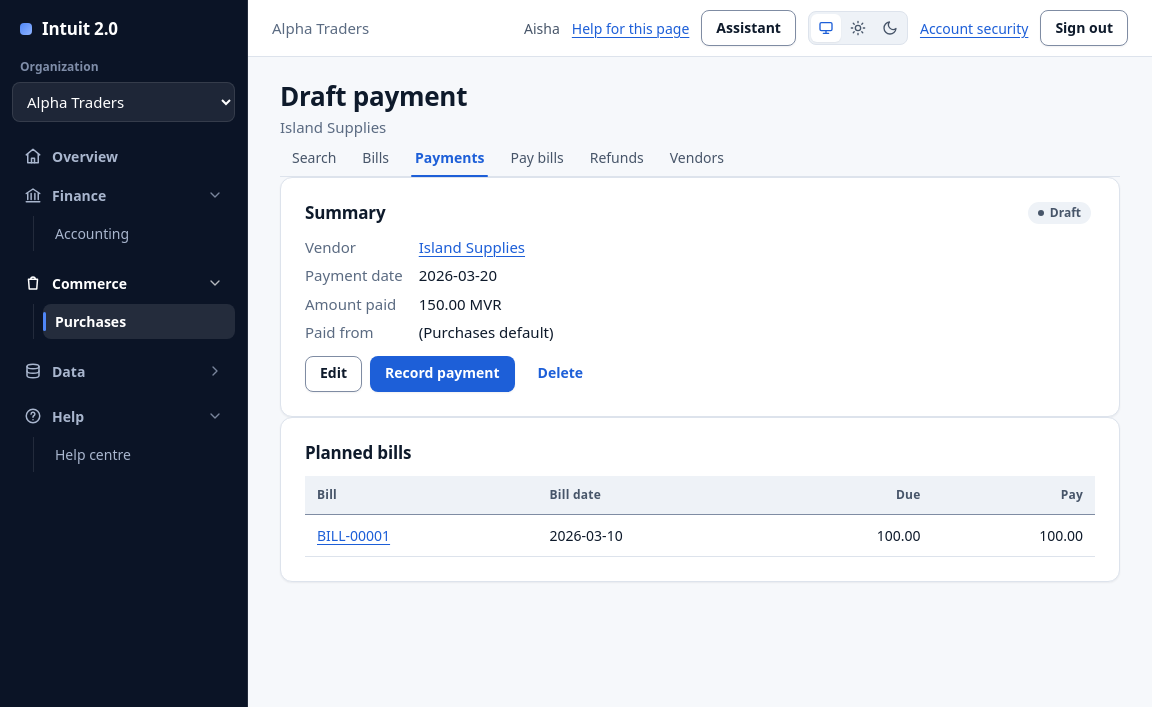
Test: vendor payment detail › records without re-authentication and shows the settlement with journal links
This screenshot has width=1152, height=707.
Click the button "Record payment".
click(442, 374)  # box [370,356,515,392]
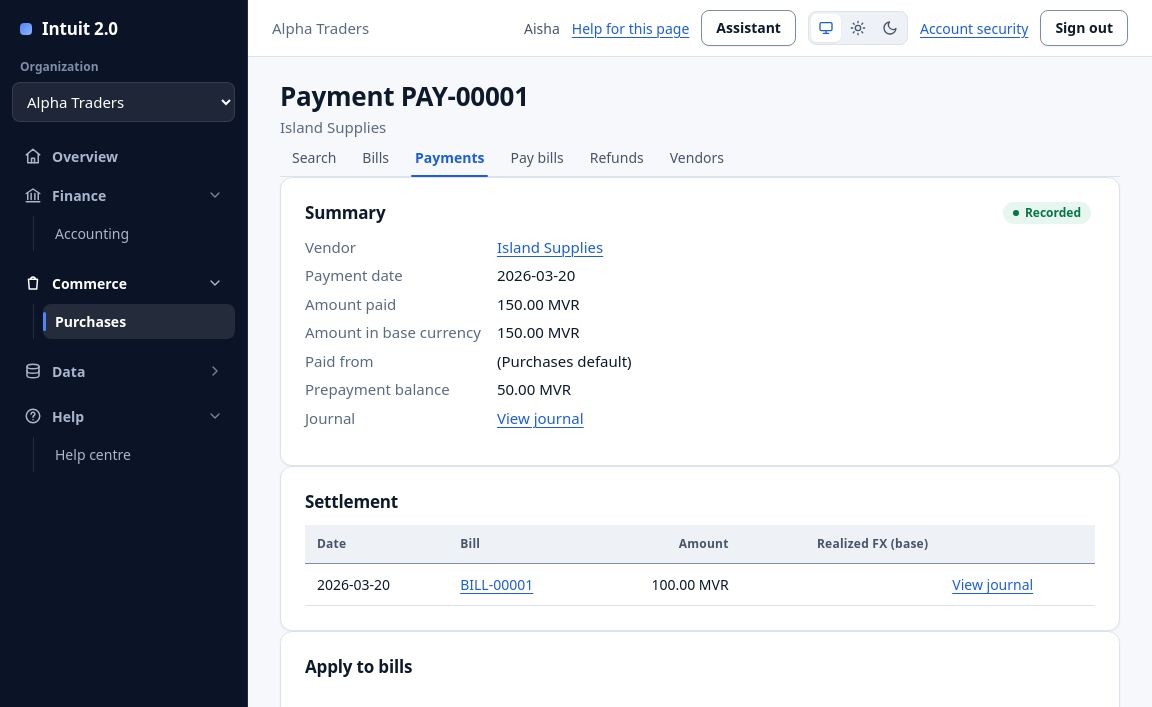
Expected: the link "BILL-00001" is shown, [460,575,533,594]
Expected: the heading "Payment PAY-00001" is shown, [280,78,529,114]
Expected: the link "View journal" below "Prepayment balance" is shown, [497,408,584,428]
